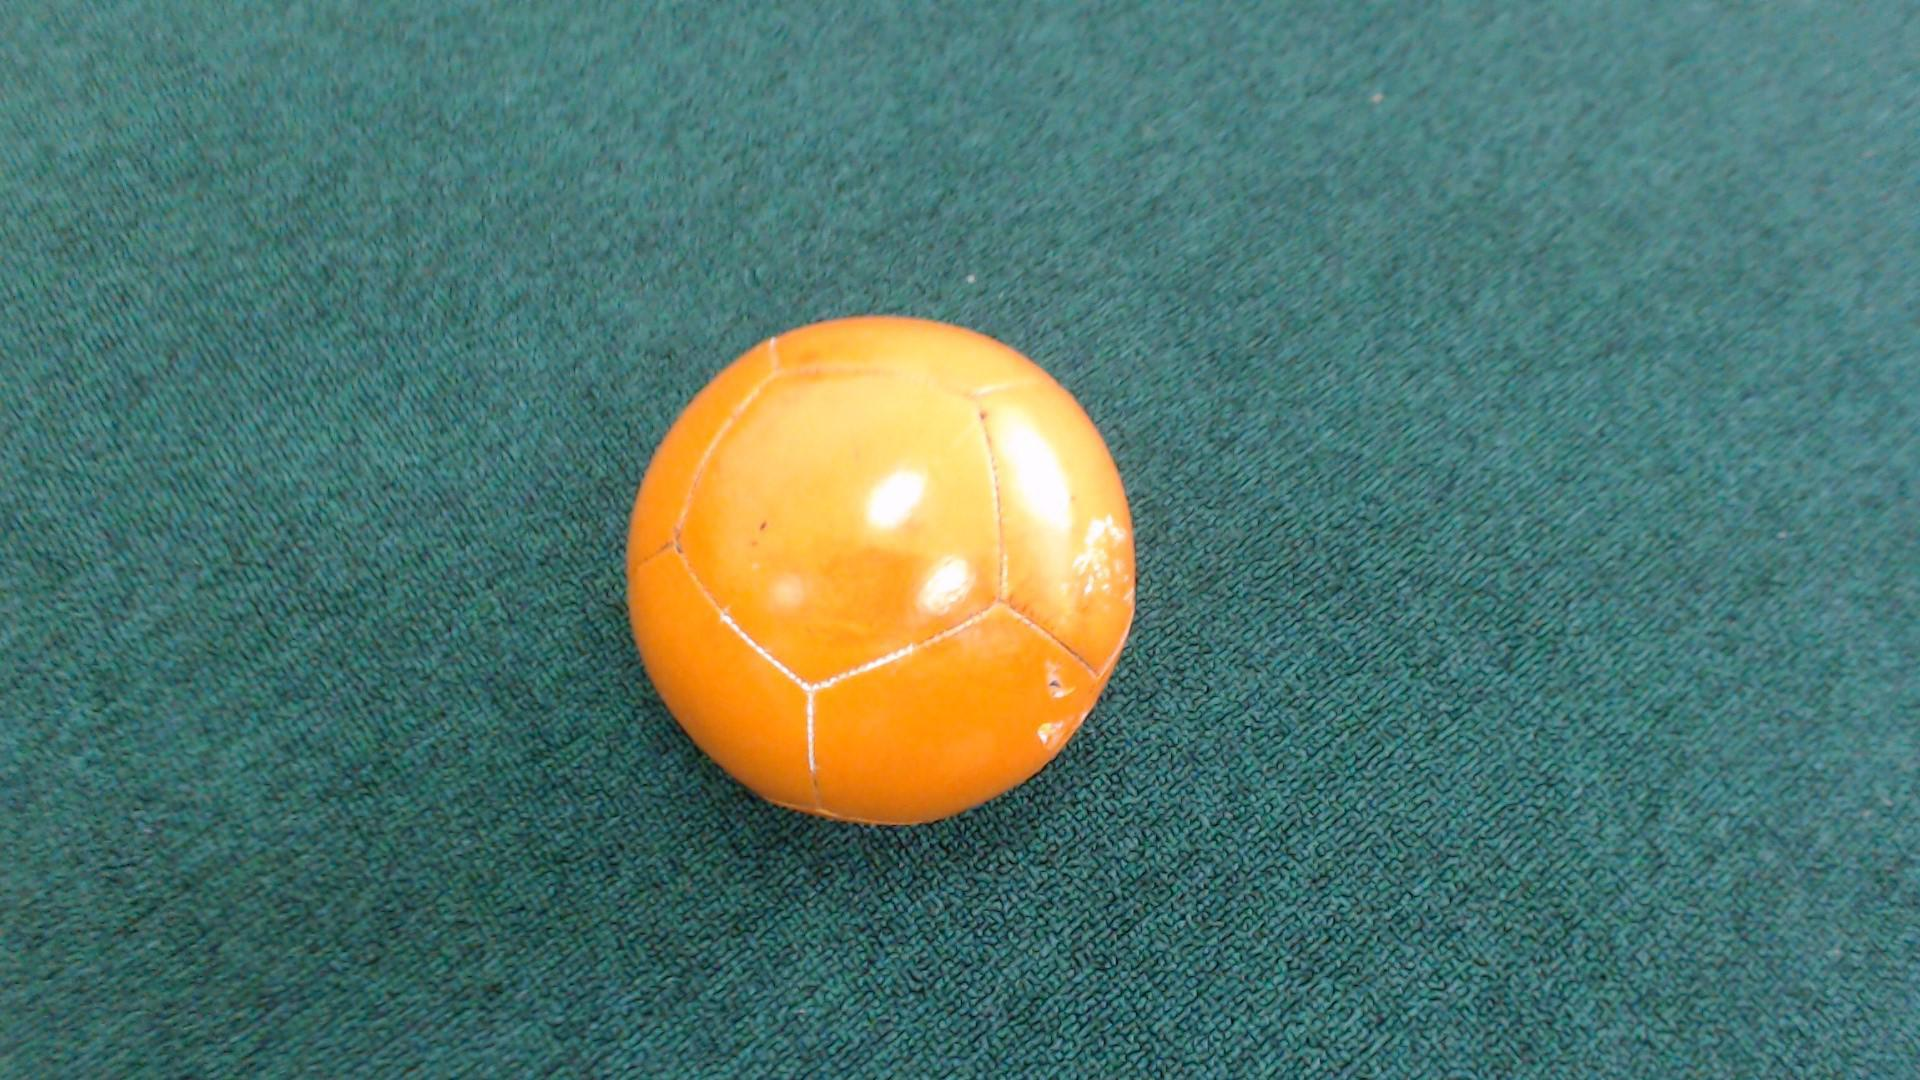bola: (585, 303, 1163, 835)
